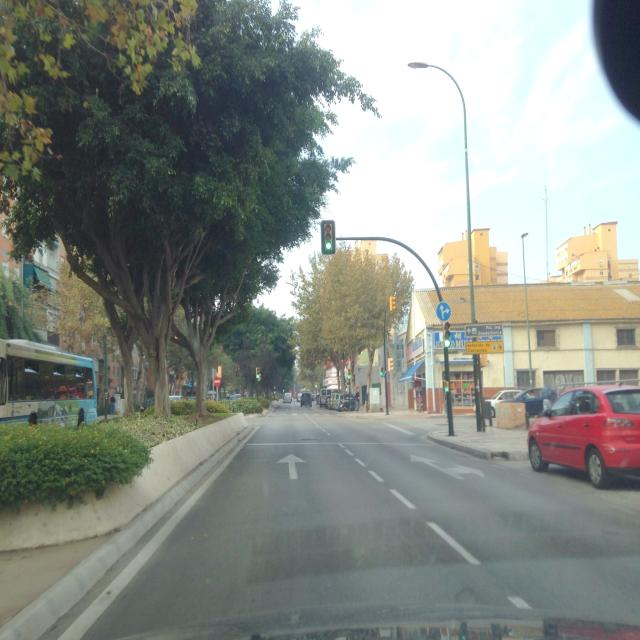car: (526, 384, 640, 489), (490, 387, 560, 418), (483, 388, 533, 419), (337, 393, 358, 412), (328, 392, 340, 410), (300, 392, 312, 407), (318, 393, 330, 407), (206, 391, 218, 401), (283, 392, 292, 404)
